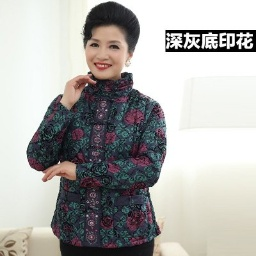face: (81, 1, 139, 81)
